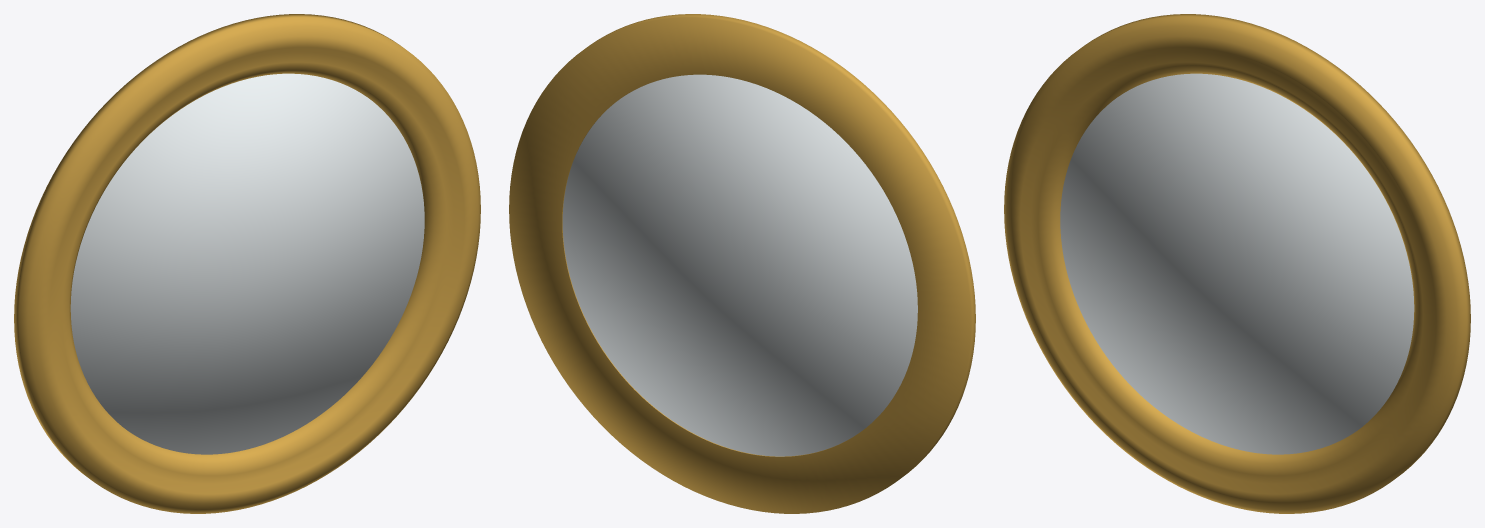
The model's file is mdm-249987.glb.
3 renders of one model, left to right at view 1: azimuth 30°, elevation 25°; view 2: azimuth 150°, elevation 25°; view 3: azimuth 330°, elevation 25°, orthographic.
Parts seen in each view (by area): view 1: mdm-249987; view 2: mdm-249987; view 3: mdm-249987.
Boxes of the visible parts, <box> form: mdm-249987: <box>14,14,480,513</box>; mdm-249987: <box>509,14,975,513</box>; mdm-249987: <box>1004,14,1470,513</box>.
Size of the model in its own units: 1.2 by 1.2 by 0.052.
